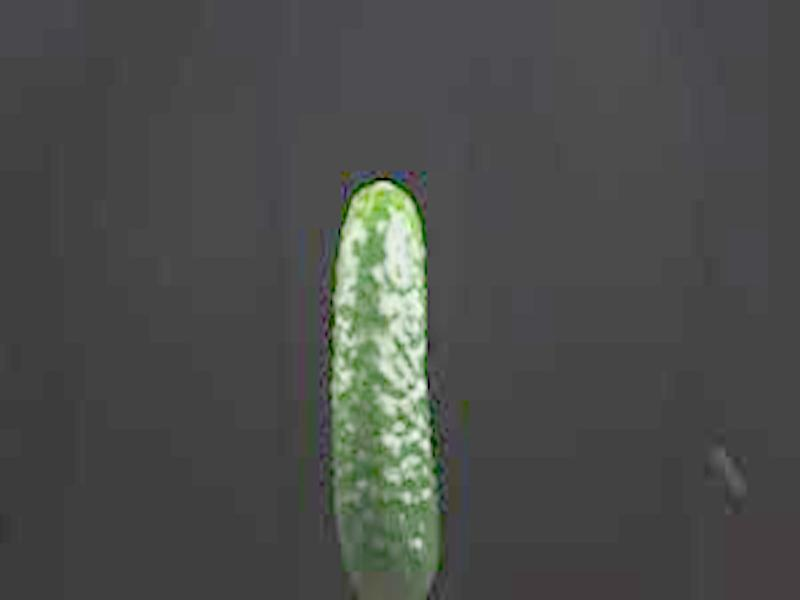Cucumber: (331, 179, 440, 600)
